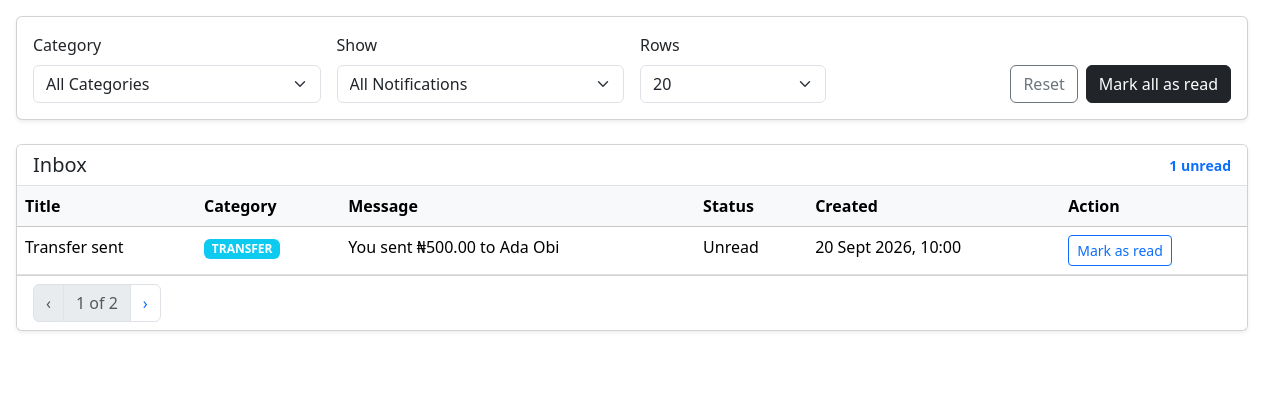
Test: Notifications › shows a background-refresh indicator instead of replacing the list while refetching
The image size is (1265, 395).
Expected: the text "Transfer sent" is shown, x1=17 y1=226 x2=196 y2=274
Select "50" in the dropdown labelled "Rows" at coordinates (733, 84), box x1=640 y1=65 x2=826 y2=103
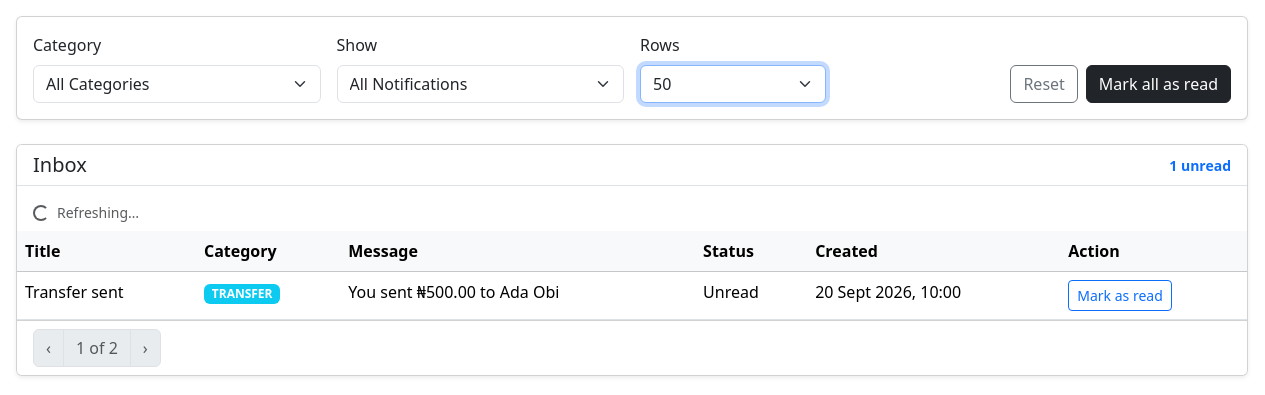
Expected: the text "Transfer sent" is shown, x1=17 y1=272 x2=196 y2=320
Expected: the message shows "Refreshing", x1=57 y1=203 x2=139 y2=222
